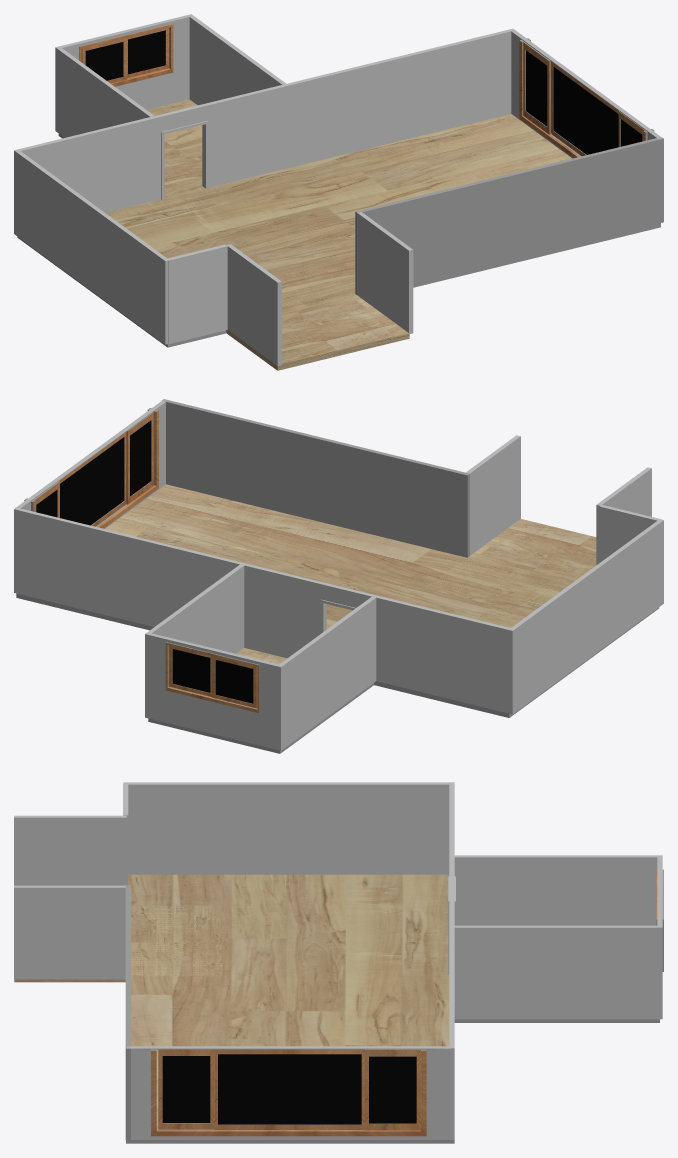
File: room.fbx
3 views of the same model, one above another, from view 1: azimuth 30°, elevation 25°; view 2: azimuth 150°, elevation 25°; view 3: azimuth 270°, elevation 25° (orthographic). The views are drawn at different scales.
Parts seen in each view (by area): view 1: room:pCube9, room:pCube11, room:pCube10, room:pCube14, room:pCube5, room:pCube15, room:pCube12, room:pCube16, room:pCube22, room:pCube3, room:pCube21, room:pCube4 (+8 smaller); view 2: room:pCube11, room:pCube9, room:pCube10, room:pCube14, room:pCube15, room:pCube12, room:pCube3, room:pCube2, room:pCube5, room:pCube4, room:pCube22, room:pCube17 (+8 smaller); view 3: room:pCube9, room:pCube14, room:pCube4, room:pCube3, room:pCube17, room:pCube22, room:pCube13, room:pCube21, room:pCube12, room:pCube20, room:pCube19, room:pCube11 (+4 smaller).
Boxes of the visible parts, x1=… form: room:pCube9: x1=17, y1=114, x2=660, y2=347; room:pCube11: x1=355, y1=137, x2=663, y2=295; room:pCube10: x1=284, y1=28, x2=514, y2=167; room:pCube14: x1=14, y1=149, x2=168, y2=344; room:pCube5: x1=151, y1=85, x2=288, y2=200; room:pCube15: x1=16, y1=116, x2=153, y2=212; room:pCube12: x1=226, y1=263, x2=409, y2=370; room:pCube16: x1=167, y1=244, x2=227, y2=344; room:pCube22: x1=358, y1=212, x2=413, y2=334; room:pCube3: x1=55, y1=47, x2=154, y2=137; room:pCube21: x1=226, y1=244, x2=281, y2=366; room:pCube4: x1=188, y1=14, x2=288, y2=105; room:pCube11: x1=162, y1=399, x2=469, y2=557; room:pCube9: x1=16, y1=484, x2=659, y2=717; room:pCube10: x1=14, y1=507, x2=241, y2=626; room:pCube14: x1=509, y1=519, x2=663, y2=713; room:pCube15: x1=376, y1=596, x2=514, y2=714; room:pCube12: x1=426, y1=519, x2=596, y2=613; room:pCube3: x1=279, y1=595, x2=377, y2=750; room:pCube2: x1=145, y1=632, x2=282, y2=750; room:pCube5: x1=244, y1=563, x2=377, y2=658; room:pCube4: x1=145, y1=562, x2=245, y2=717; room:pCube22: x1=466, y1=435, x2=520, y2=555; room:pCube17: x1=59, y1=432, x2=126, y2=526; room:pCube9: x1=126, y1=874, x2=454, y2=1143; room:pCube14: x1=123, y1=782, x2=454, y2=874; room:pCube4: x1=449, y1=925, x2=662, y2=1019; room:pCube3: x1=449, y1=855, x2=657, y2=925; room:pCube17: x1=214, y1=1049, x2=364, y2=1129; room:pCube22: x1=14, y1=885, x2=125, y2=979; room:pCube13: x1=126, y1=1046, x2=450, y2=1139; room:pCube21: x1=14, y1=815, x2=126, y2=885; room:pCube12: x1=14, y1=905, x2=222, y2=982; room:pCube20: x1=364, y1=1049, x2=420, y2=1130; room:pCube19: x1=158, y1=1049, x2=214, y2=1129; room:pCube11: x1=125, y1=885, x2=130, y2=1140.
Bounding box in the file's own units: 608 × 102 × 625.
